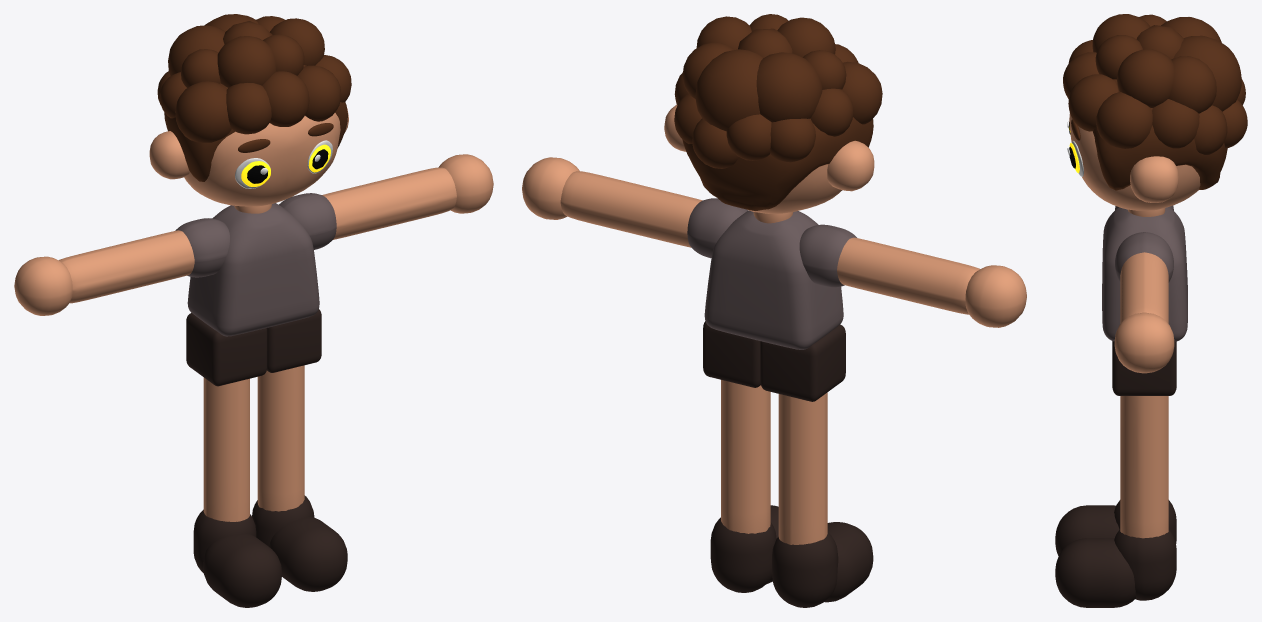
Rendered from piratemesh.fbx.
3 views of the same model, side by side, from view 1: azimuth 30°, elevation 25°; view 2: azimuth 150°, elevation 25°; view 3: azimuth 270°, elevation 25° (orthographic). The views are drawn at different scales.
Visible parts, largest first — view 1: pirate boy; view 2: pirate boy; view 3: pirate boy.
Boxes of the visible parts, x1,y1,x2,y2 form: pirate boy: (14, 14, 493, 607); pirate boy: (522, 14, 1026, 607); pirate boy: (1055, 14, 1247, 607).
Bounding box in the file's own units: 425 × 147 × 474.
